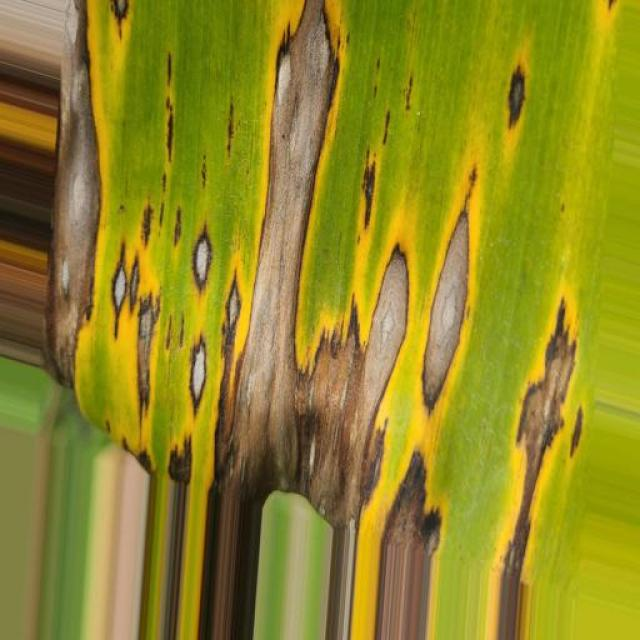Early_rust: (40, 0, 640, 568)
